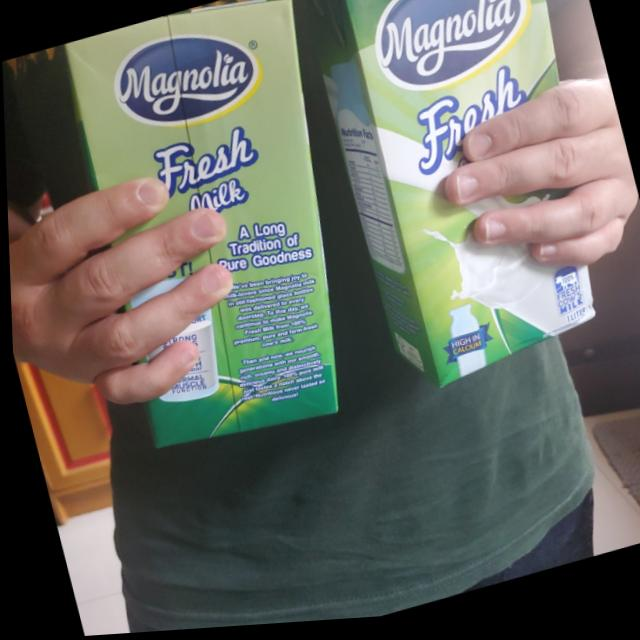milk: (52, 0, 392, 476), (292, 0, 628, 409)
